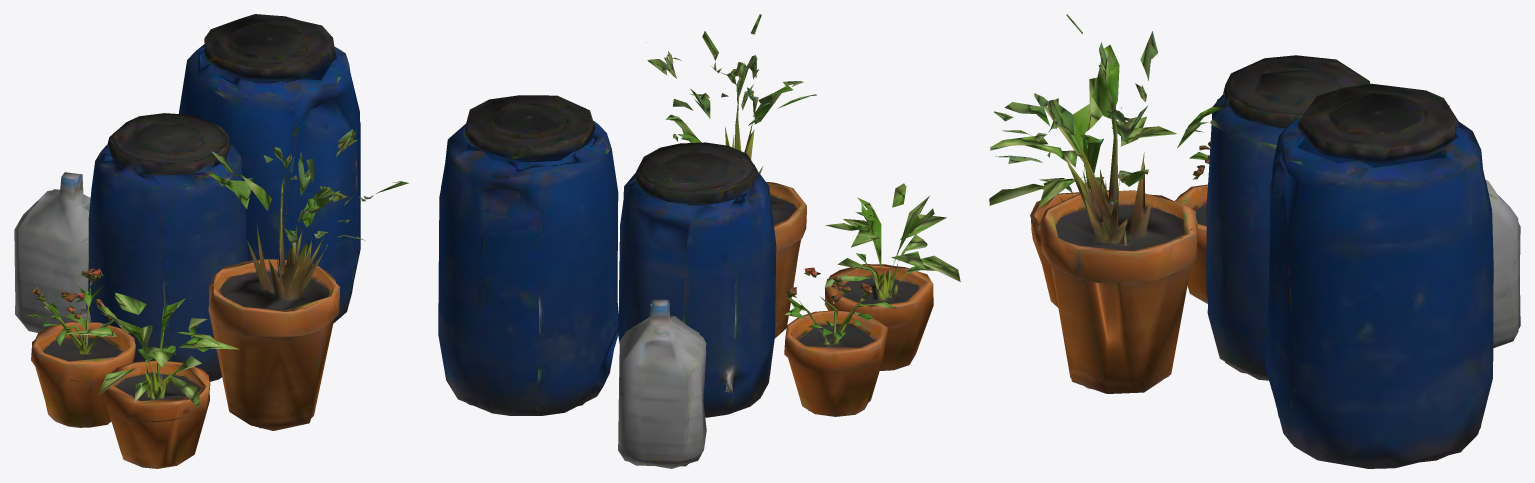
Rendered from water-drums.glb.
The picture shows the model from 3 angles, left to right: view 1: azimuth 30°, elevation 25°; view 2: azimuth 150°, elevation 25°; view 3: azimuth 270°, elevation 25°; orthographic projection. The views are drawn at different scales.
Visible parts, largest first — view 1: geometry_0; view 2: geometry_0; view 3: geometry_0.
Boxes of the visible parts, bbox=[...] form: geometry_0: bbox=[14, 14, 408, 468]; geometry_0: bbox=[438, 14, 960, 468]; geometry_0: bbox=[989, 14, 1520, 468].
Bounding box in the file's own units: 1.28 × 0.978 × 1.3.
1 material, 1 textured.
